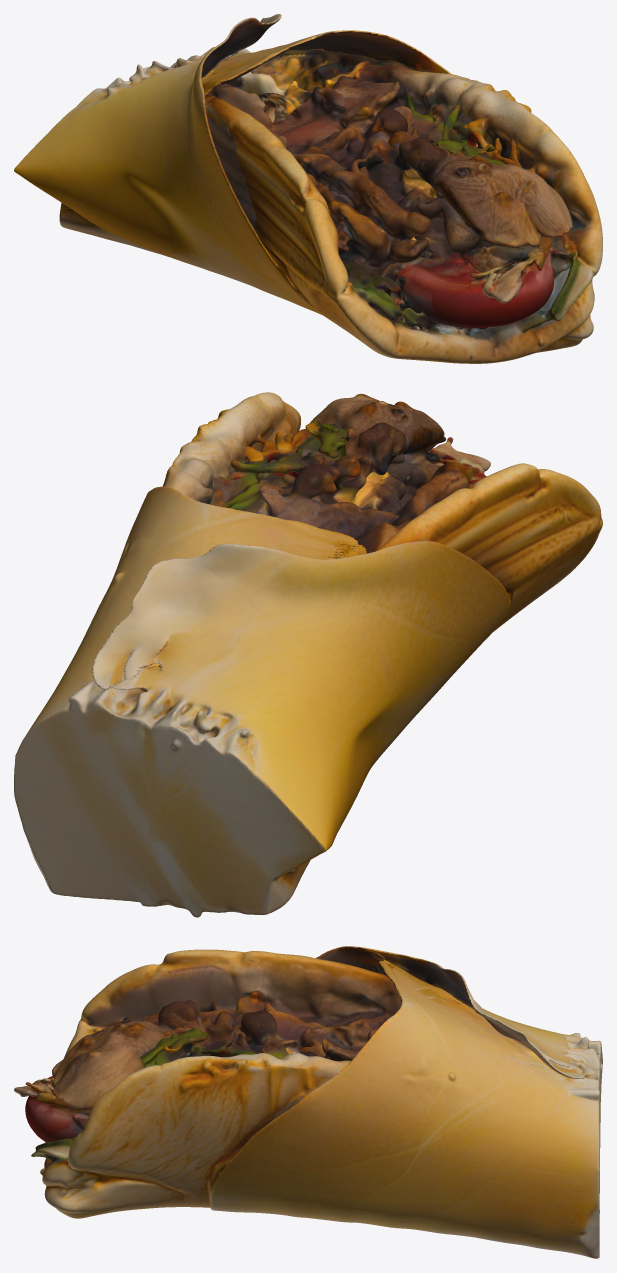
File: kebab-model.glb
3 views of the same model, one above another, from view 1: azimuth 30°, elevation 25°; view 2: azimuth 150°, elevation 25°; view 3: azimuth 270°, elevation 25° (orthographic). The views are drawn at different scales.
Visible parts, largest first — view 1: tripo_node_b4a4b71f-c0a9-4e93-9276-fc908c885607; view 2: tripo_node_b4a4b71f-c0a9-4e93-9276-fc908c885607; view 3: tripo_node_b4a4b71f-c0a9-4e93-9276-fc908c885607.
Part boxes in pixels (bbox=[...]): tripo_node_b4a4b71f-c0a9-4e93-9276-fc908c885607: bbox=[14, 14, 602, 363]; tripo_node_b4a4b71f-c0a9-4e93-9276-fc908c885607: bbox=[14, 392, 602, 917]; tripo_node_b4a4b71f-c0a9-4e93-9276-fc908c885607: bbox=[14, 946, 602, 1258].
Size of the model in its own units: 0.5721 by 0.4615 by 1.
Materials: 1 (1 with a texture image).
